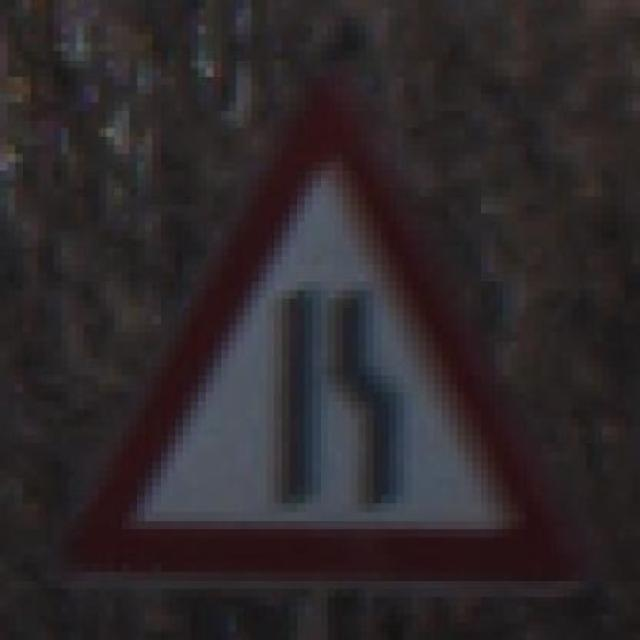-Road narrows on right: (61, 43, 587, 606)
